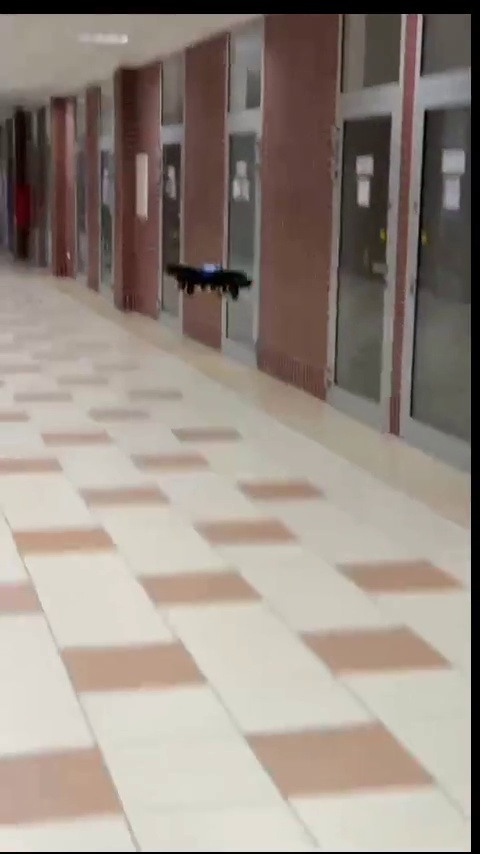drone: (167, 261, 252, 303)
